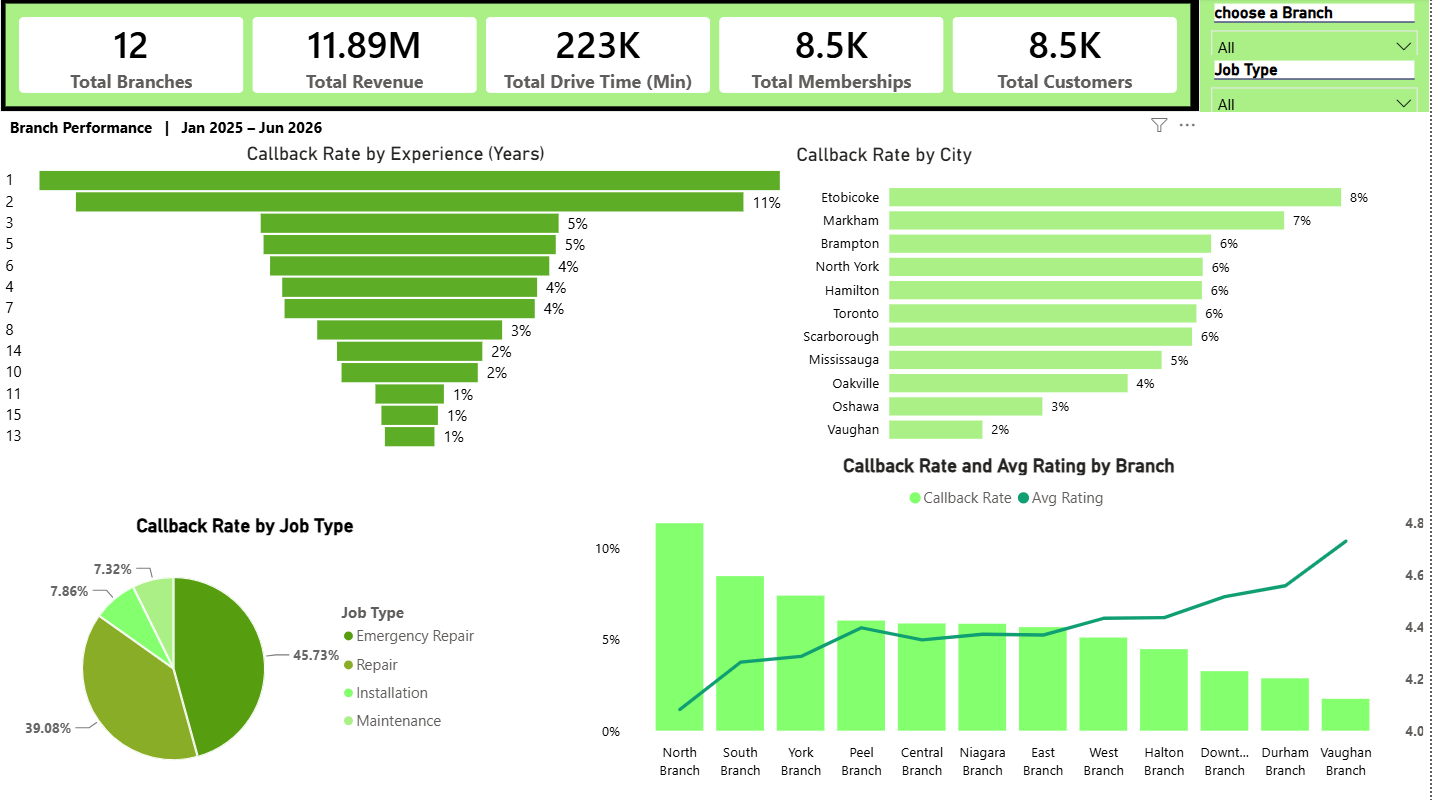

The page's visual inventory and layout, read from the dashboard file:
{"tool":"powerbi","page":{"name":"Page 3","canvas":[1280,720],"ordinal":2},"visuals":[{"type":"lineStackedColumnComboChart","fields":{"Category":["operations.Branch"],"Y":["operations.Callback Rate"],"Y2":["operations.Avg Rating"]},"box":[527.5,408.4,752.2,299.1],"z":0},{"type":"funnel","fields":{"Category":["operations.Experience (Years)"],"Y":["operations.Callback Rate"]},"box":[0,129,708.4,279.4],"z":1000},{"type":"pieChart","fields":{"Category":["operations.Job Type"],"Y":["operations.Callback Rate"]},"box":[0,462.1,438.8,257.9],"z":2000},{"type":"barChart","fields":{"Category":["operations.City"],"Y":["operations.Callback Rate"]},"box":[708.4,129.9,571.3,278.5],"z":3000},{"type":"cardVisual","fields":{"Data":["Count(operations.Branch)","operations.Total Revenue","Sum(operations.Drive Time (Minutes))","CountNonNull(operations.Membership Sold)","CountNonNull(operations.Customer Rating)"]},"box":[0,0,1074.6,102.1],"z":4000},{"type":"textbox","box":[0,102.1,296.7,27.2],"z":6000},{"type":"slicer","fields":{"Values":["operations.Job Type"]},"box":[1074.6,51,205.1,51],"z":6001},{"type":"slicer","title":"Choose a Branch  Below","fields":{"Values":["operations.Branch"]},"box":[1074.6,0,205.1,51],"z":6002}]}

Visuals, with their boxes in screenshot pixels (x1, y1, x2, y2), scaled from the page's 1280x720 canvas onto the 1433x800 screenshot:
lineStackedColumnComboChart - operations.Branch x operations.Callback Rate: 591:454:1432:786
funnel - operations.Experience (Years) x operations.Callback Rate: 0:143:793:454
pieChart - operations.Job Type x operations.Callback Rate: 0:513:491:799
barChart - operations.City x operations.Callback Rate: 793:144:1432:454
cardVisual - Count(operations.Branch) x operations.Total Revenue: 0:0:1203:113
textbox: 0:113:332:144
slicer - operations.Job Type: 1203:57:1432:113
"Choose a Branch  Below" slicer: 1203:0:1432:57
